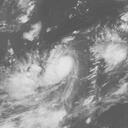cyclone: (41, 46, 79, 87)
